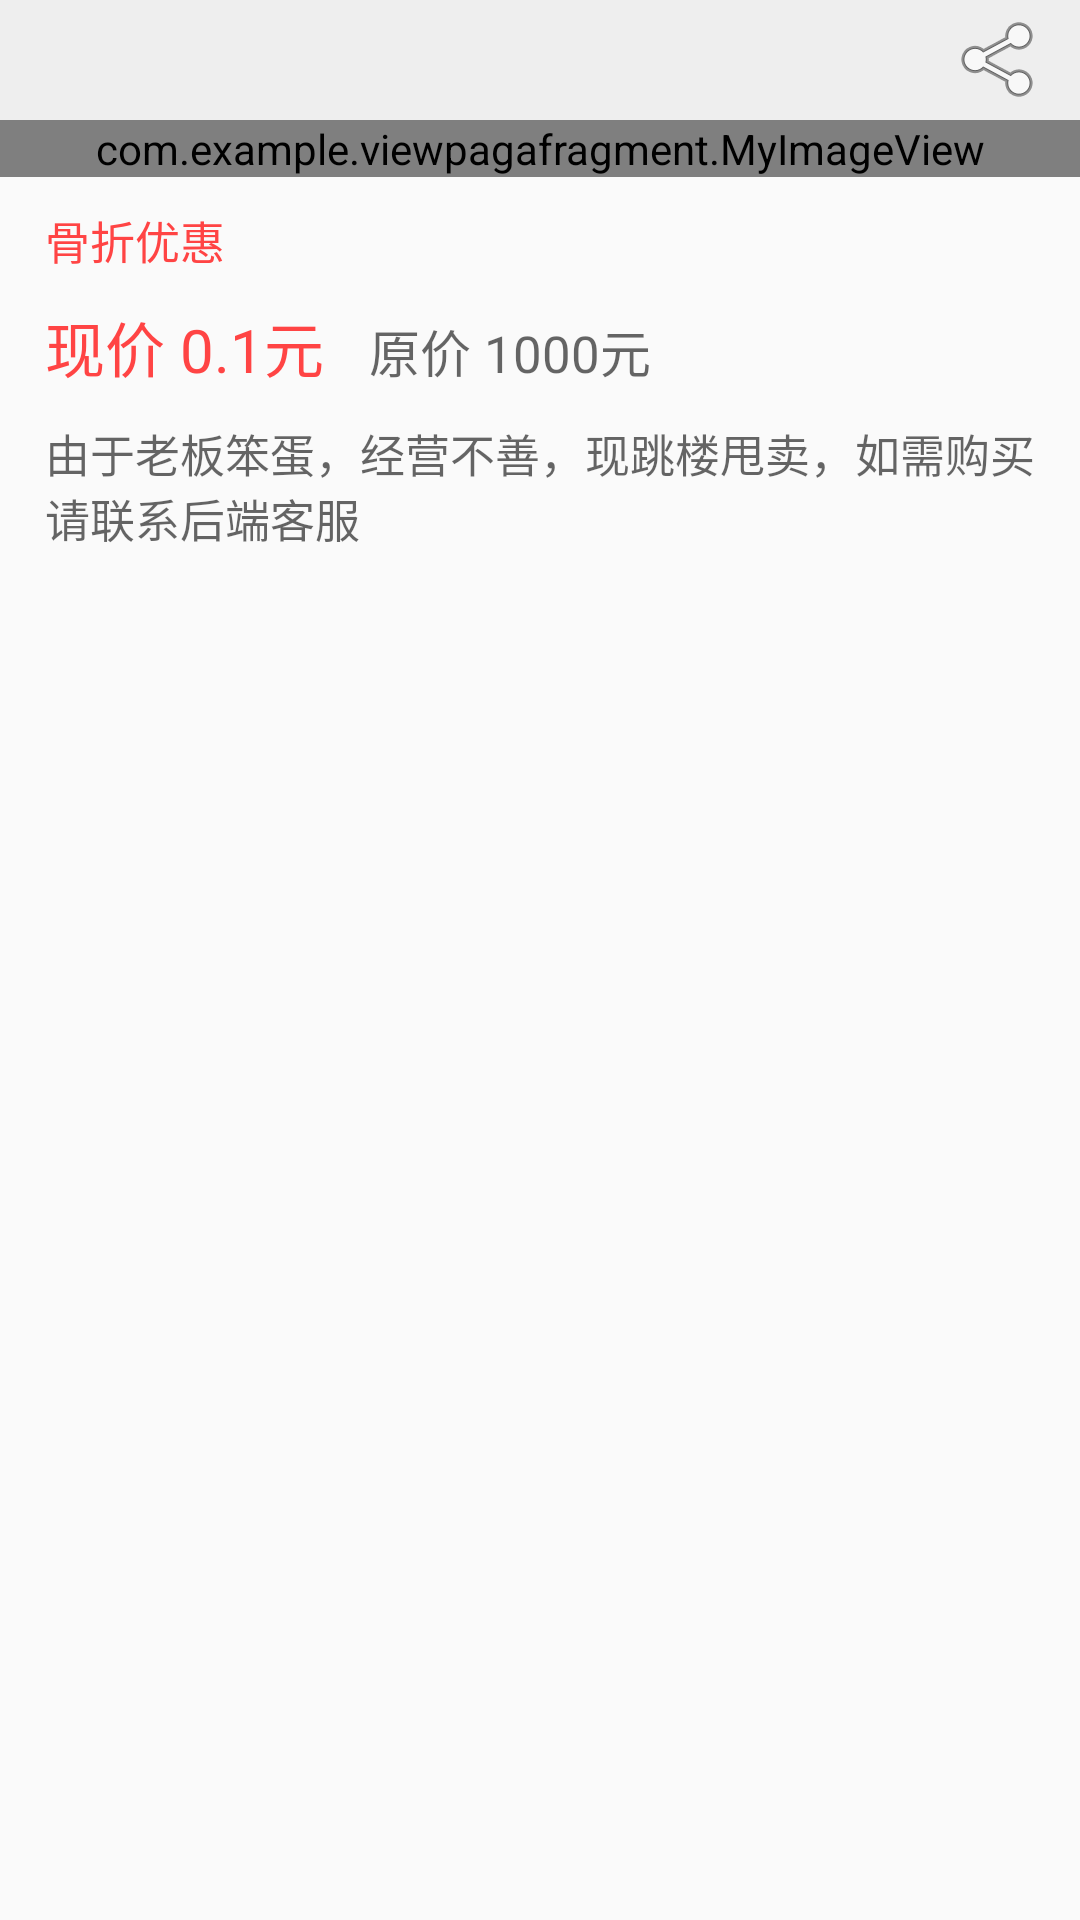

Where icons sit on this 1080 × 1920 app screen, as (x1, y1, x2, y2):
share: (961, 22, 1033, 97)
